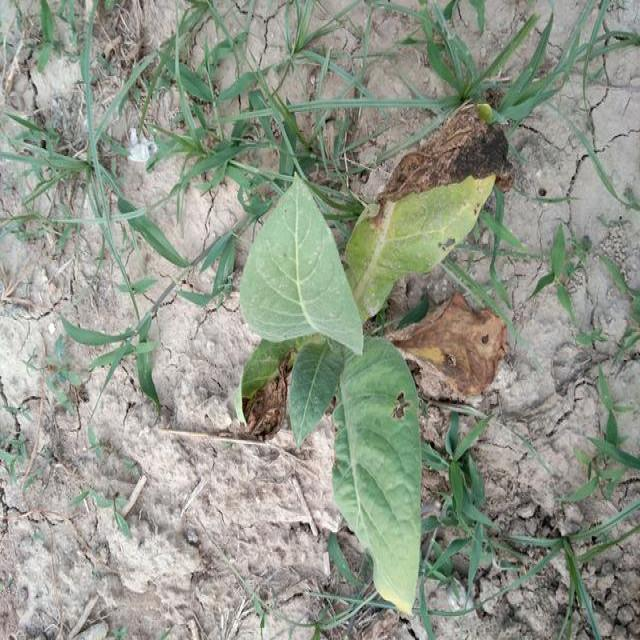crop: (260, 131, 506, 602)
